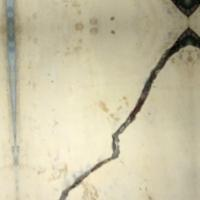crack: (53, 22, 199, 199)
